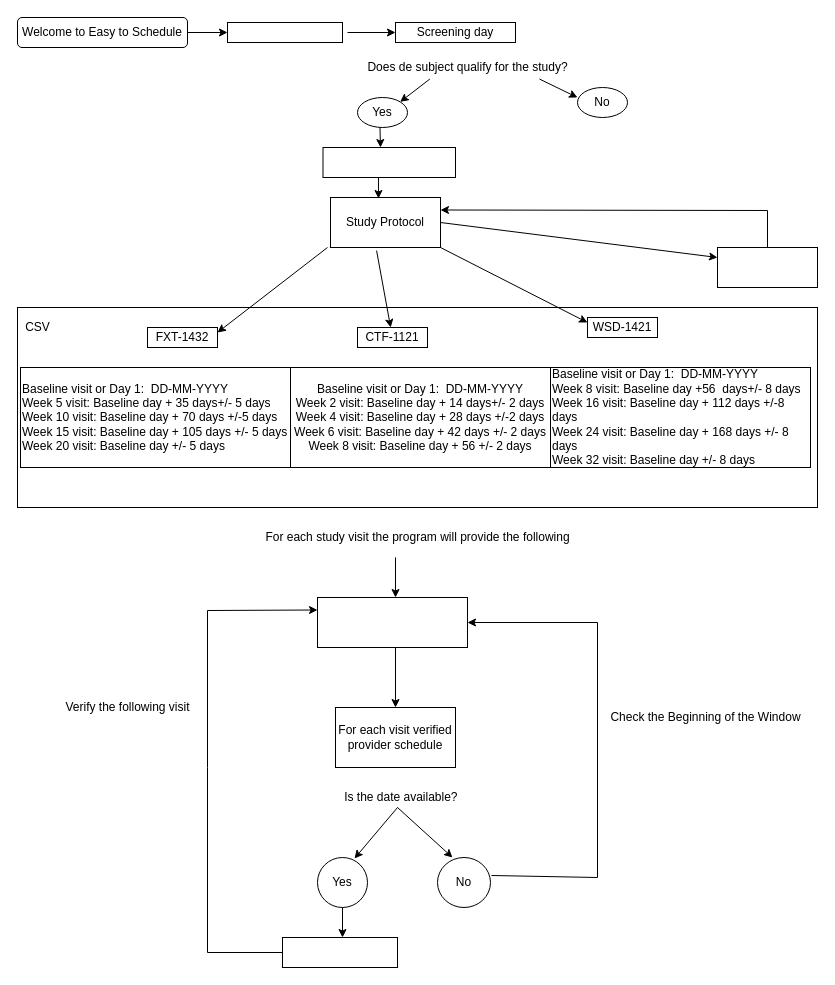
Some shapes in this 835 by 985 pixel diagram are drawn without their labels. Here are the shapes that lost their labels. From the top down, the box of each, then its label:
(226, 22, 342, 42): Subject ID
(322, 146, 456, 178): Baseline visit: DD-MMM-YYYY
(716, 246, 818, 288): Error: Protocol numer is incorrect
(316, 596, 468, 648): 1) Visit target day 2) Beginning of the window 3) End of the Window
(282, 936, 398, 968): Schedule the visit
